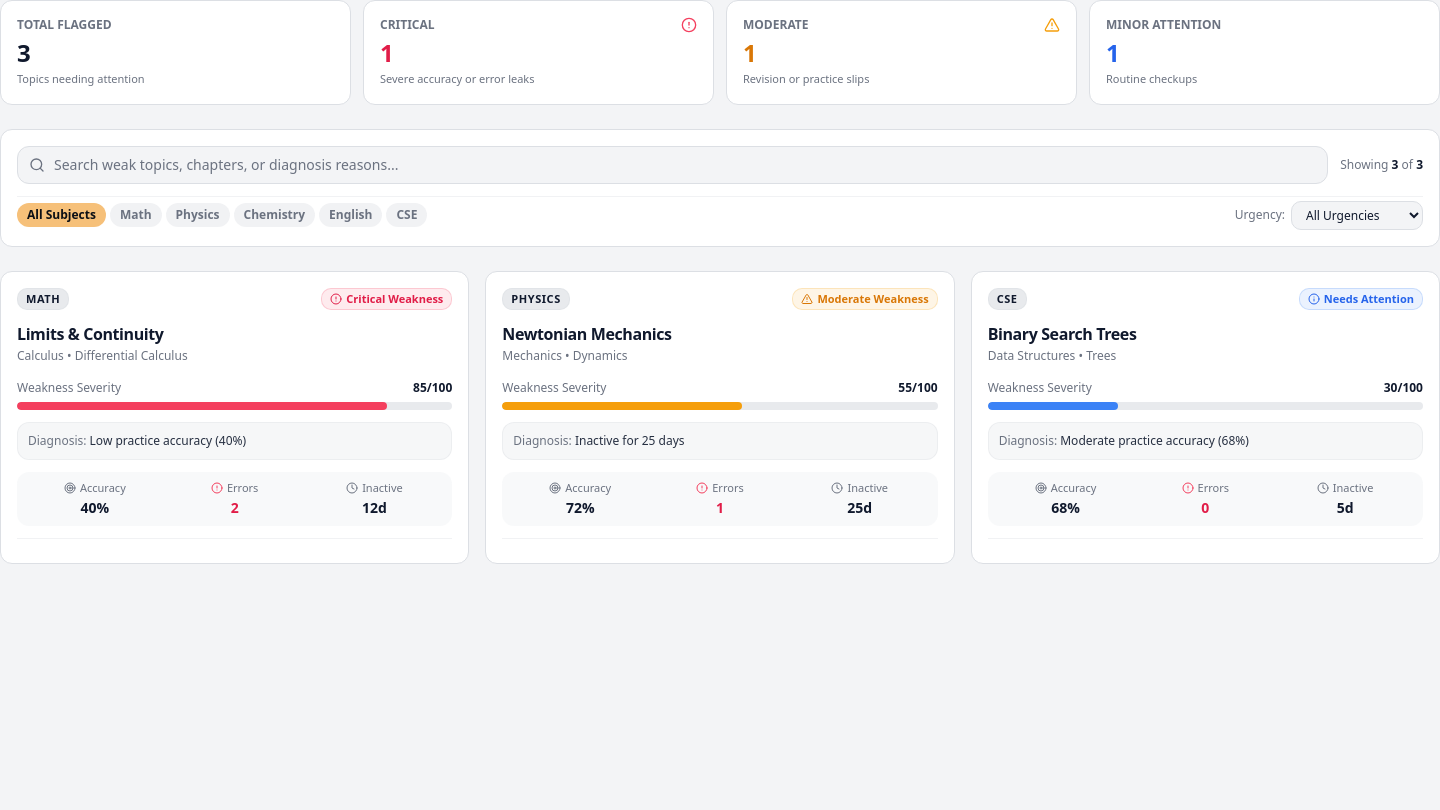
Test case: WeakAreaRadar › filters topics by search text input
The image size is (1440, 810).
Type "Newtonian" into the field with placeholder "Search weak topics, chapters, or diagnosis reasons..." at (673, 164), box [17,146,1328,184]
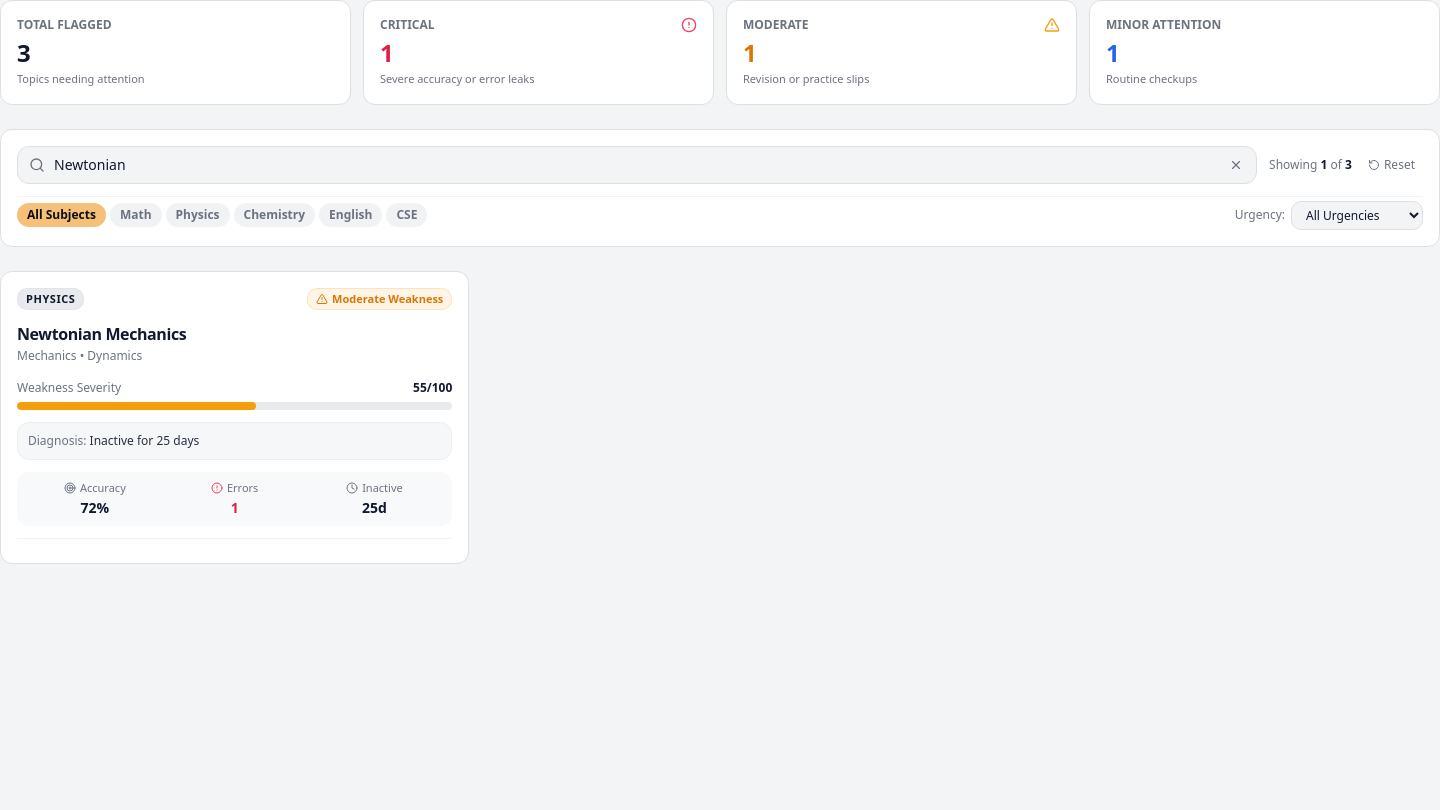
Expected: the heading "Newtonian Mechanics" is shown, [17,323,186,345]
Expected: the heading "Limits & Continuity" is gone
Expected: the heading "Binary Search Trees" is gone
